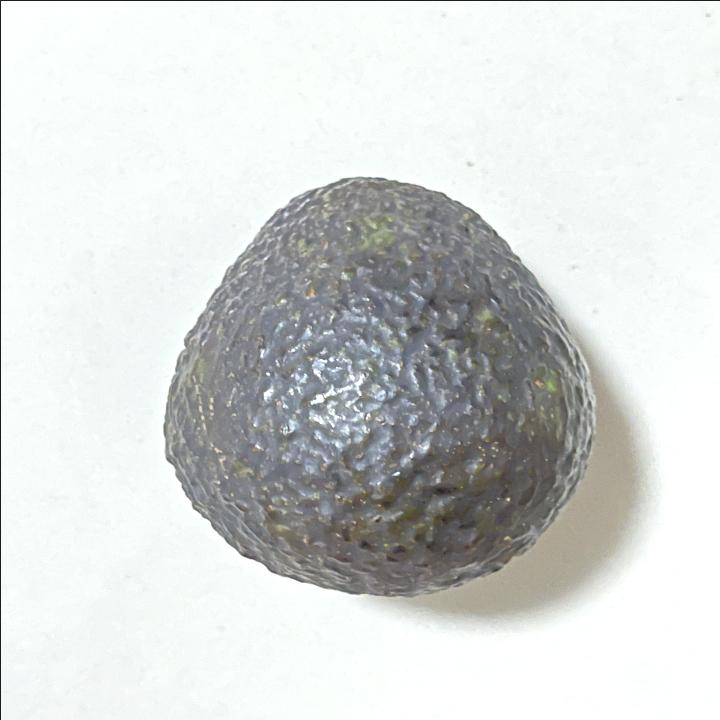Level2: (156, 166, 604, 599)
